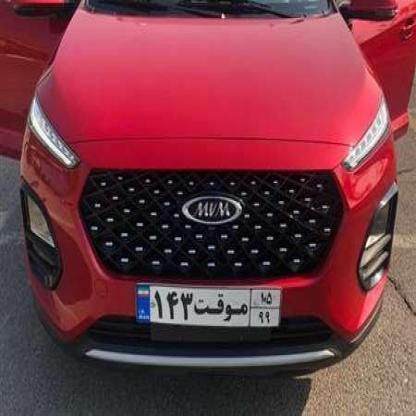Car: (20, 0, 392, 358)
